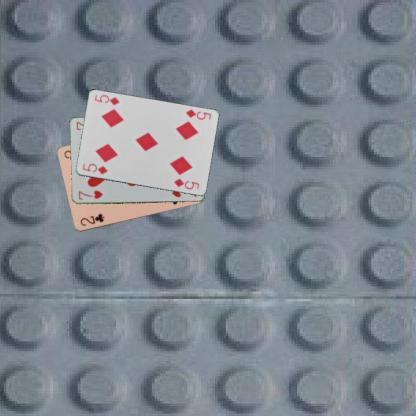2c: (77, 212, 106, 227)
5d: (80, 161, 108, 176), (183, 107, 212, 121)
7h: (76, 188, 103, 200)
